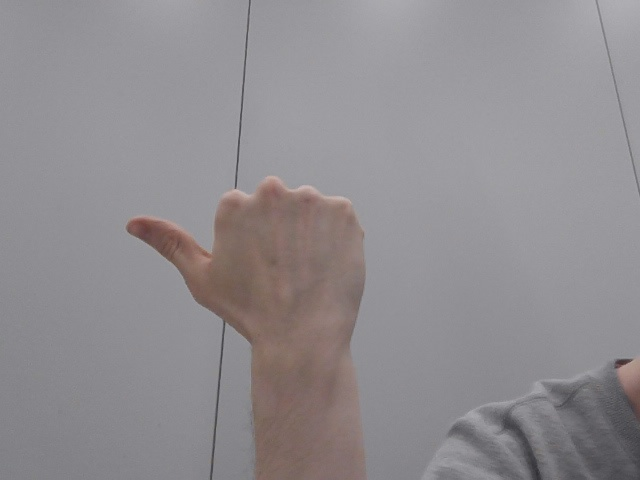right: (102, 152, 390, 398)
